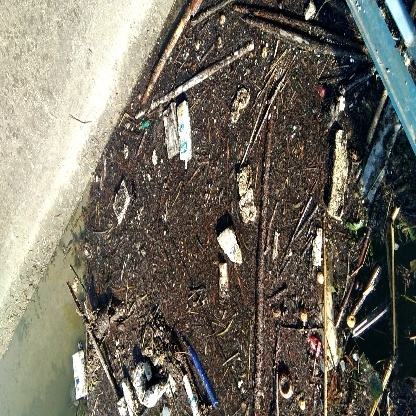branch: (233, 2, 352, 59), (252, 120, 275, 394), (140, 2, 201, 95)
milk-box: (177, 102, 198, 176), (66, 348, 94, 402)
